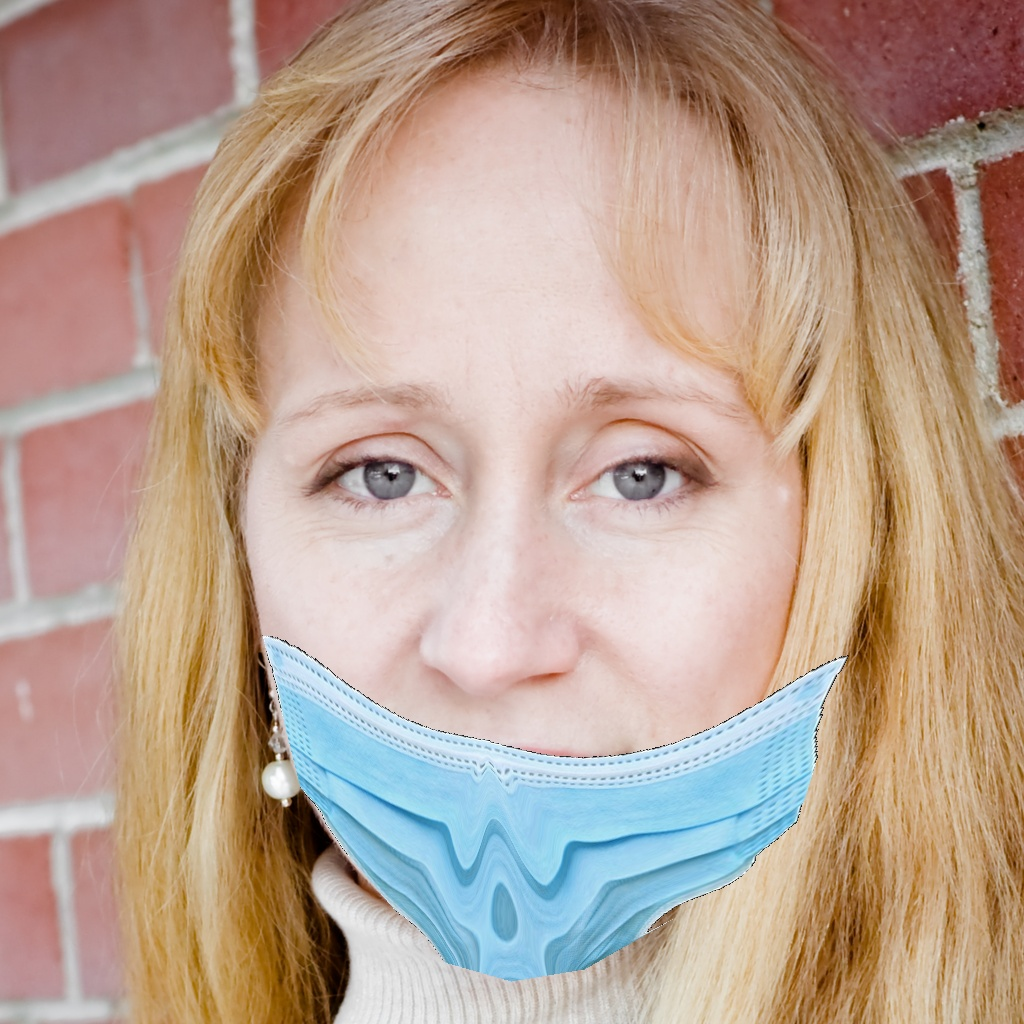mascarilla_mal_puesta: (242, 365, 894, 1024)
